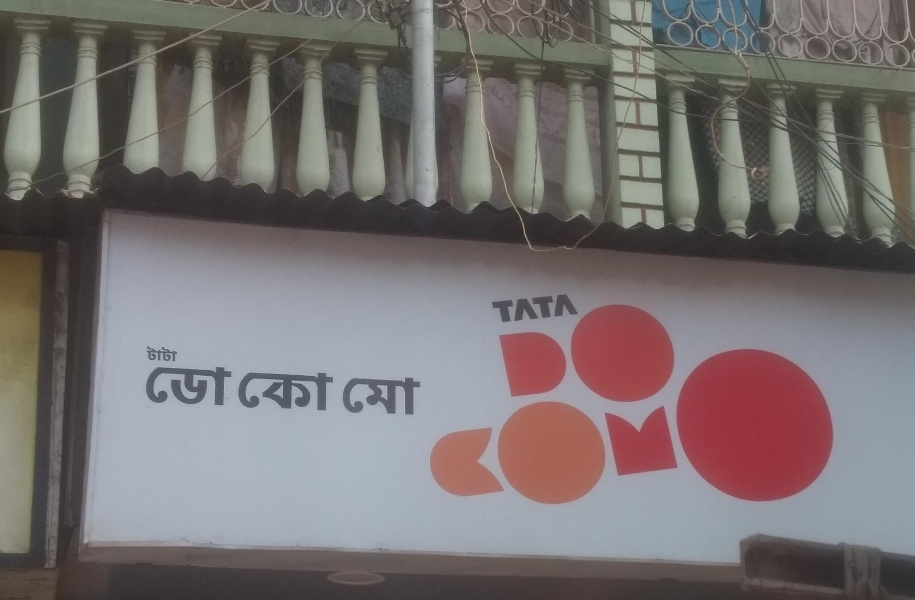text: (433, 258, 448, 526), (449, 258, 464, 526), (465, 258, 480, 526), (481, 258, 496, 526), (497, 258, 512, 526), (513, 258, 528, 526), (529, 258, 544, 526), (545, 258, 560, 526), (561, 258, 576, 526), (577, 258, 592, 526), (593, 258, 608, 526), (609, 258, 624, 526), (625, 258, 640, 526), (641, 258, 656, 526), (657, 258, 672, 526), (673, 258, 688, 526), (689, 258, 704, 526), (705, 258, 720, 526), (721, 258, 736, 526), (737, 258, 752, 526), (753, 258, 768, 526), (769, 258, 784, 526), (785, 258, 800, 526), (801, 258, 816, 526), (817, 258, 832, 526), (833, 258, 848, 526), (849, 258, 864, 526), (865, 258, 880, 526), (881, 258, 896, 526), (897, 258, 912, 526), (428, 258, 432, 526), (145, 357, 160, 424), (161, 357, 176, 424), (177, 357, 192, 424), (193, 357, 208, 424), (209, 357, 224, 424), (225, 357, 240, 424), (241, 357, 256, 424), (257, 357, 272, 424), (273, 357, 288, 424), (289, 357, 304, 424), (305, 357, 320, 424), (321, 357, 336, 424), (337, 357, 352, 424), (353, 357, 368, 424), (369, 357, 384, 424), (385, 357, 400, 424), (401, 357, 416, 424), (417, 357, 429, 424), (497, 293, 512, 326), (513, 293, 528, 326), (529, 293, 544, 326), (545, 293, 560, 326), (561, 293, 576, 326), (138, 357, 144, 424), (485, 293, 496, 326), (145, 344, 160, 365), (161, 344, 176, 365), (577, 293, 582, 326), (177, 344, 181, 365)
